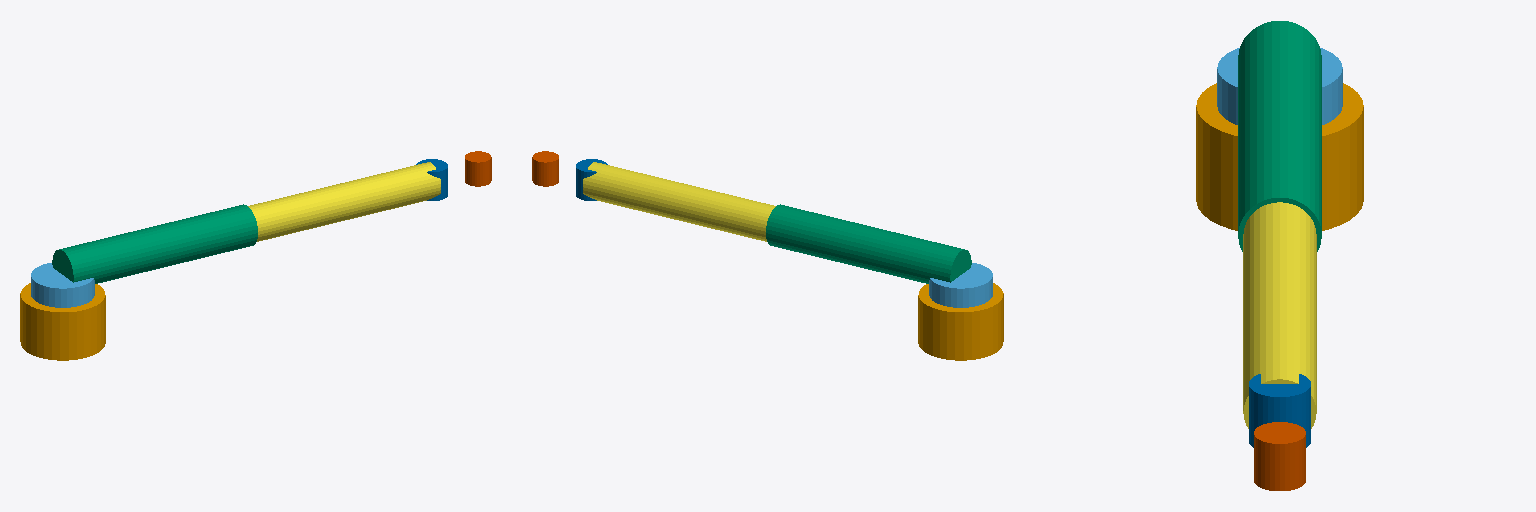
robot.urdf — struct_test_arm:
<?xml version="1.0"?>
<!--
  test_arm.urdf — placeholder 6-DOF test arm, NOT the real deployment robot.
  See README.md in this directory. Inertials are dummy-but-valid (positive
  definite) since this is used for kinematics (IK + FK replay), not dynamics.

  Per-joint velocity limits were recalibrated upward from an initial
  arbitrary guess (3-4 rad/s) after ar_datapipe's velocity/discontinuity
  gate (spec section 62) correctly caught the fixture TEACH demo violating
  them: this arm's Z-Y-X wrist (shoulder_pan/wrist1/wrist3, all coupled)
  has a real wrist singularity near wrist2=0, same as any UR-style arm, and
  the fixture trajectory passes close enough to it that per-frame IK can
  land on measurably different joint solutions for adjacent frames. Original
  3-4 rad/s had no real basis; these values (6-18 rad/s) are still a
  plausible bound for a lightweight manipulator's joints and give enough
  margin to absorb that near-singularity wobble without masking a
  genuinely-broken trajectory. See ../../STATE.md.
-->
<robot name="struct_test_arm">

  <!-- MuJoCo's URDF importer fuses statically-connected bodies (e.g. links
       joined by a "fixed" joint, like end_effector below) into their parent
       by default, which would silently delete the end_effector body we need
       to query. Disable that fusion. -->
  <mujoco>
    <compiler fusestatic="false"/>
  </mujoco>

  <link name="base_link">
    <inertial>
      <mass value="2.0"/>
      <origin xyz="0 0 0.05"/>
      <inertia ixx="0.02" ixy="0" ixz="0" iyy="0.02" iyz="0" izz="0.02"/>
    </inertial>
    <visual>
      <origin xyz="0 0 0.05"/>
      <geometry><cylinder radius="0.08" length="0.1"/></geometry>
    </visual>
  </link>

  <link name="shoulder_link">
    <inertial>
      <mass value="1.0"/>
      <origin xyz="0 0 0"/>
      <inertia ixx="0.008" ixy="0" ixz="0" iyy="0.008" iyz="0" izz="0.008"/>
    </inertial>
    <visual>
      <geometry><cylinder radius="0.06" length="0.08"/></geometry>
    </visual>
  </link>

  <joint name="shoulder_pan" type="revolute">
    <parent link="base_link"/>
    <child link="shoulder_link"/>
    <origin xyz="0 0 0.1" rpy="0 0 0"/>
    <axis xyz="0 0 1"/>
    <limit lower="-3.14159" upper="3.14159" effort="100" velocity="12.0"/>
  </joint>

  <link name="upper_arm_link">
    <inertial>
      <mass value="1.5"/>
      <origin xyz="0.2 0 0"/>
      <inertia ixx="0.006" ixy="0" ixz="0" iyy="0.03" iyz="0" izz="0.03"/>
    </inertial>
    <visual>
      <origin xyz="0.2 0 0" rpy="0 1.5708 0"/>
      <geometry><cylinder radius="0.04" length="0.4"/></geometry>
    </visual>
  </link>

  <joint name="shoulder_lift" type="revolute">
    <parent link="shoulder_link"/>
    <child link="upper_arm_link"/>
    <origin xyz="0 0 0.05" rpy="0 0 0"/>
    <axis xyz="0 1 0"/>
    <limit lower="-1.9199" upper="1.9199" effort="100" velocity="6.0"/>
  </joint>

  <link name="forearm_link">
    <inertial>
      <mass value="1.2"/>
      <origin xyz="0.2 0 0"/>
      <inertia ixx="0.005" ixy="0" ixz="0" iyy="0.025" iyz="0" izz="0.025"/>
    </inertial>
    <visual>
      <origin xyz="0.2 0 0" rpy="0 1.5708 0"/>
      <geometry><cylinder radius="0.035" length="0.4"/></geometry>
    </visual>
  </link>

  <joint name="elbow" type="revolute">
    <parent link="upper_arm_link"/>
    <child link="forearm_link"/>
    <origin xyz="0.4 0 0" rpy="0 0 0"/>
    <axis xyz="0 1 0"/>
    <limit lower="-2.7925" upper="2.7925" effort="80" velocity="6.0"/>
  </joint>

  <link name="wrist1_link">
    <inertial>
      <mass value="0.4"/>
      <origin xyz="0 0 0"/>
      <inertia ixx="0.002" ixy="0" ixz="0" iyy="0.002" iyz="0" izz="0.002"/>
    </inertial>
    <visual>
      <geometry><cylinder radius="0.03" length="0.06"/></geometry>
    </visual>
  </link>

  <joint name="wrist1" type="revolute">
    <parent link="forearm_link"/>
    <child link="wrist1_link"/>
    <origin xyz="0.4 0 0" rpy="0 0 0"/>
    <axis xyz="0 0 1"/>
    <limit lower="-3.14159" upper="3.14159" effort="40" velocity="18.0"/>
  </joint>

  <link name="wrist2_link">
    <inertial>
      <mass value="0.3"/>
      <origin xyz="0 0 0"/>
      <inertia ixx="0.0015" ixy="0" ixz="0" iyy="0.0015" iyz="0" izz="0.0015"/>
    </inertial>
    <visual>
      <geometry><cylinder radius="0.025" length="0.05"/></geometry>
    </visual>
  </link>

  <joint name="wrist2" type="revolute">
    <parent link="wrist1_link"/>
    <child link="wrist2_link"/>
    <origin xyz="0.1 0 0" rpy="0 0 0"/>
    <axis xyz="0 1 0"/>
    <limit lower="-1.9199" upper="1.9199" effort="40" velocity="8.0"/>
  </joint>

  <link name="wrist3_link">
    <inertial>
      <mass value="0.2"/>
      <origin xyz="0 0 0"/>
      <inertia ixx="0.001" ixy="0" ixz="0" iyy="0.001" iyz="0" izz="0.001"/>
    </inertial>
    <visual>
      <geometry><cylinder radius="0.02" length="0.04"/></geometry>
    </visual>
  </link>

  <joint name="wrist3" type="revolute">
    <parent link="wrist2_link"/>
    <child link="wrist3_link"/>
    <origin xyz="0 0 0" rpy="0 0 0"/>
    <axis xyz="1 0 0"/>
    <limit lower="-3.14159" upper="3.14159" effort="40" velocity="15.0"/>
  </joint>

  <!-- Fixed tip frame — this is the "end_effector" pose retarget solves for. -->
  <link name="end_effector">
    <inertial>
      <mass value="0.05"/>
      <origin xyz="0 0 0"/>
      <inertia ixx="0.0001" ixy="0" ixz="0" iyy="0.0001" iyz="0" izz="0.0001"/>
    </inertial>
  </link>

  <joint name="wrist3_to_ee" type="fixed">
    <parent link="wrist3_link"/>
    <child link="end_effector"/>
    <origin xyz="0.08 0 0" rpy="0 0 0"/>
  </joint>

</robot>

--- What the picture shows (computed from the rendered views, not written in the file) ---
The picture shows the robot from 3 angles, left to right: view 1: azimuth 30°, elevation 25°; view 2: azimuth 150°, elevation 25°; view 3: azimuth 270°, elevation 25°; orthographic projection.
Model struct_test_arm with 8 links and 7 joints (6 revolute, 1 fixed), rooted at base_link, posed all joints at 0.
Links seen in each view (by area): view 1: upper_arm_link, forearm_link, base_link, shoulder_link, wrist2_link; view 2: upper_arm_link, forearm_link, base_link, shoulder_link, wrist2_link; view 3: upper_arm_link, forearm_link, base_link, wrist2_link, wrist1_link, shoulder_link.
Boxes of the visible links, box(x1,y1,x2,y2) form: upper_arm_link: box(52, 204, 257, 283); forearm_link: box(248, 162, 440, 241); base_link: box(20, 283, 105, 360); shoulder_link: box(31, 263, 94, 307); wrist2_link: box(465, 151, 491, 186); upper_arm_link: box(766, 204, 971, 283); forearm_link: box(583, 162, 775, 241); base_link: box(918, 283, 1003, 360); shoulder_link: box(929, 263, 992, 307); wrist2_link: box(532, 151, 558, 186); upper_arm_link: box(1238, 21, 1321, 251); forearm_link: box(1243, 202, 1316, 428); base_link: box(1196, 83, 1363, 230); wrist2_link: box(1254, 422, 1305, 490); wrist1_link: box(1249, 374, 1310, 447); shoulder_link: box(1217, 48, 1342, 124).
Size in the robot's own frame: 1 by 0.16 by 0.19 metres.
Geometry: primitives only (box / cylinder / sphere), no mesh files.
